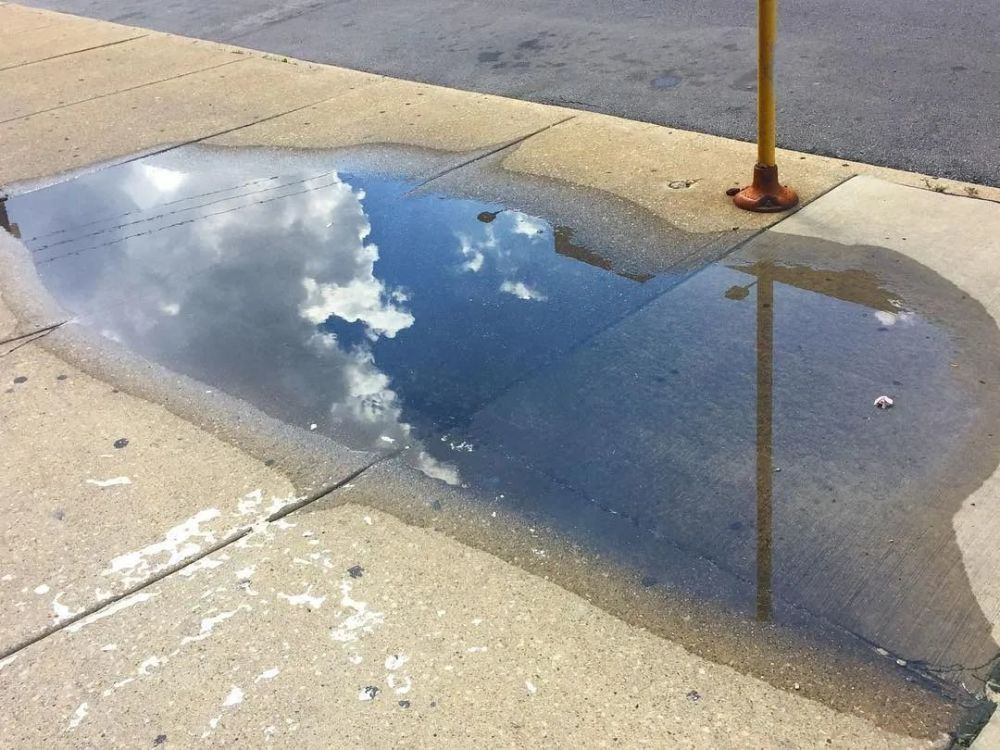puddle: (22, 141, 993, 668)
